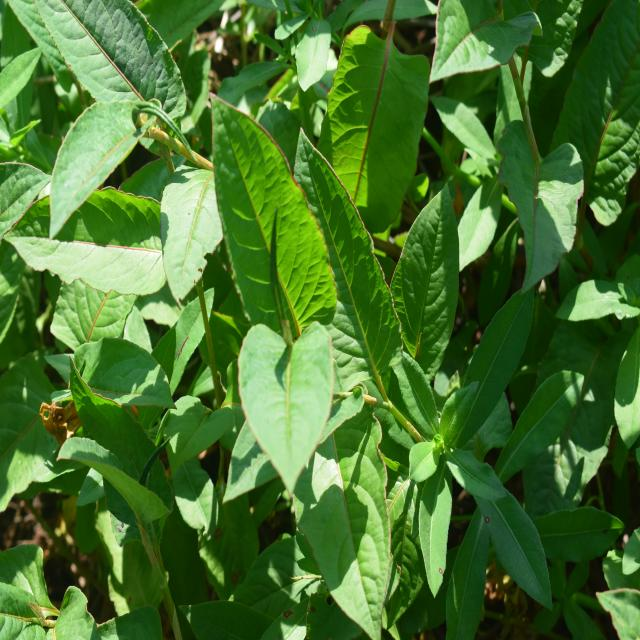Chinese_knotweed: (226, 122, 402, 611), (34, 10, 216, 310)
